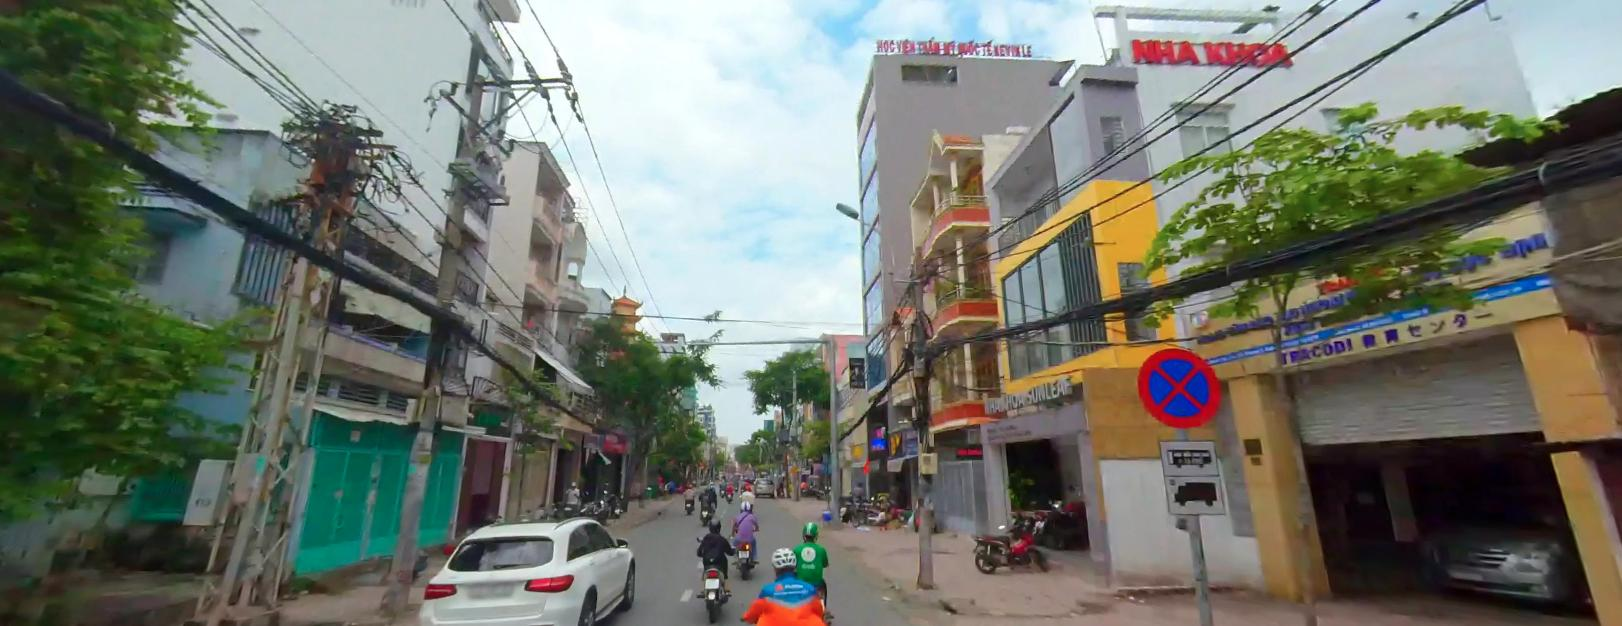Cam dung va do: (1138, 345, 1221, 429)
